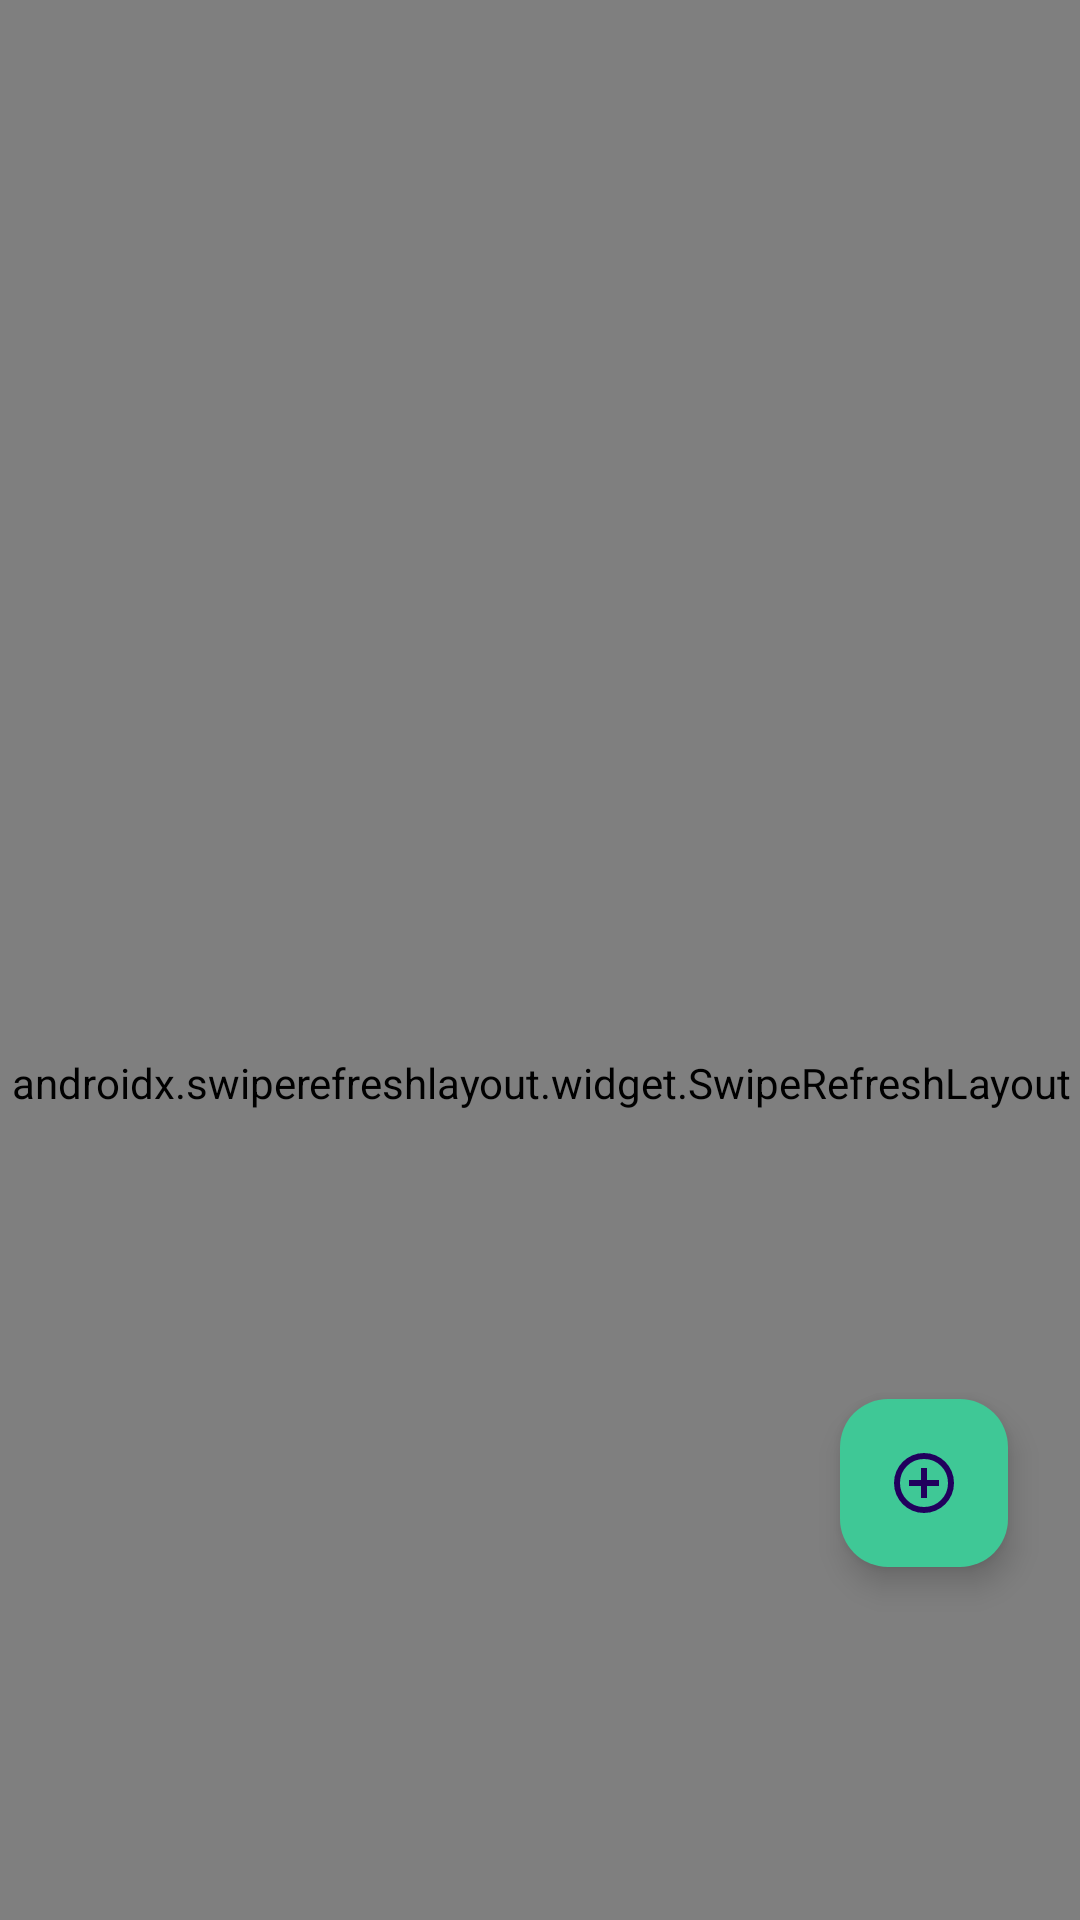

Named icons in this screenshot (1080×1920) and their centers, (x=x, y=y):
add post circle: (x=924, y=1483)
